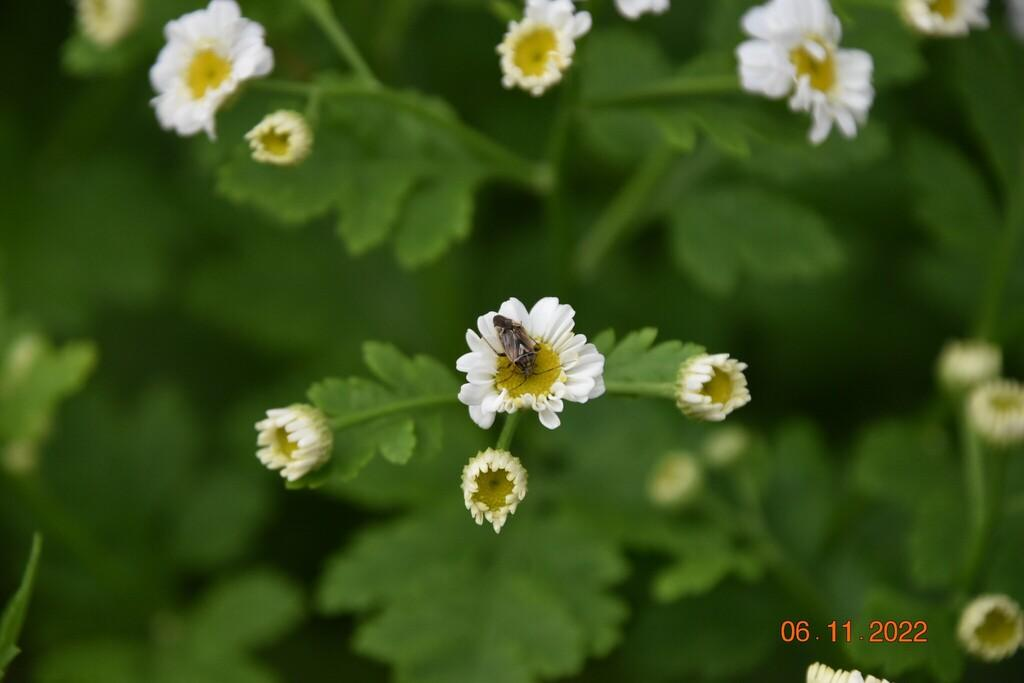plant_bugs: (473, 300, 564, 388)
